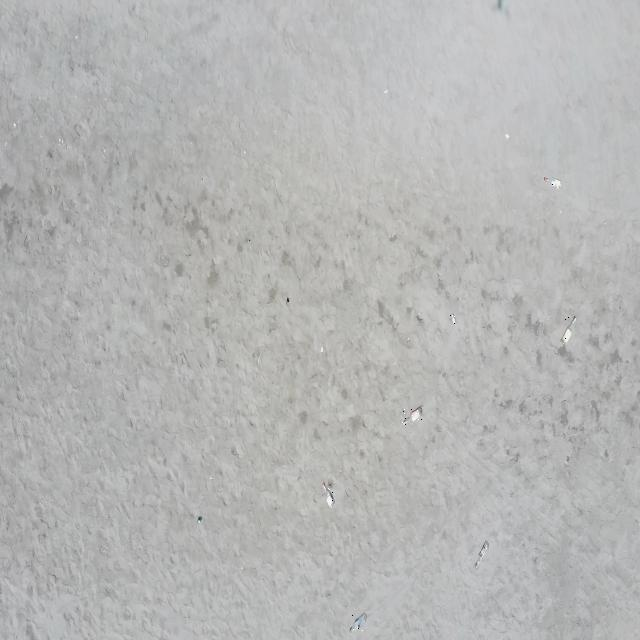glass: (561, 317, 576, 347), (475, 543, 489, 569), (402, 408, 422, 426), (322, 482, 334, 510), (350, 614, 368, 632), (544, 177, 562, 188), (451, 314, 456, 325)
